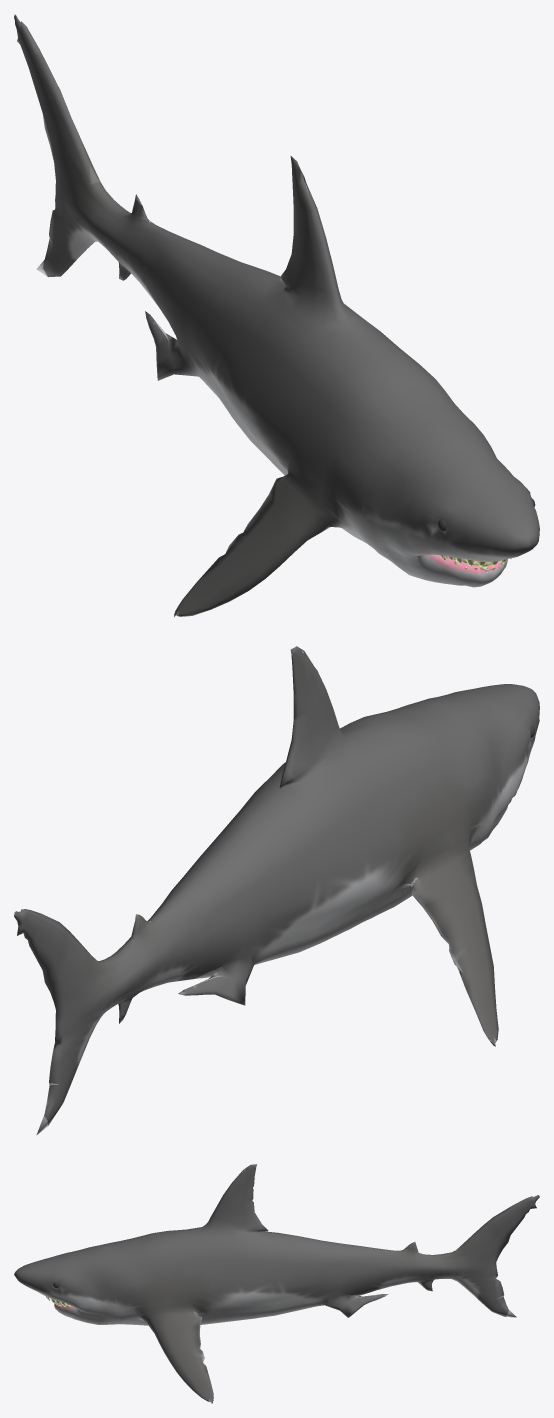
Rendered from shark.fbx.
3 views of the same model, one above another, from view 1: azimuth 30°, elevation 25°; view 2: azimuth 150°, elevation 25°; view 3: azimuth 270°, elevation 25° (orthographic). The views are drawn at different scales.
Visible parts, largest first — view 1: Shark; view 2: Shark; view 3: Shark.
Part boxes in pixels (left/top/right/bottom): Shark: left=14, top=14, right=539, bottom=617; Shark: left=14, top=646, right=539, bottom=1135; Shark: left=14, top=1164, right=539, bottom=1403.
Size of the model in its own units: 436 by 506 by 1208.
